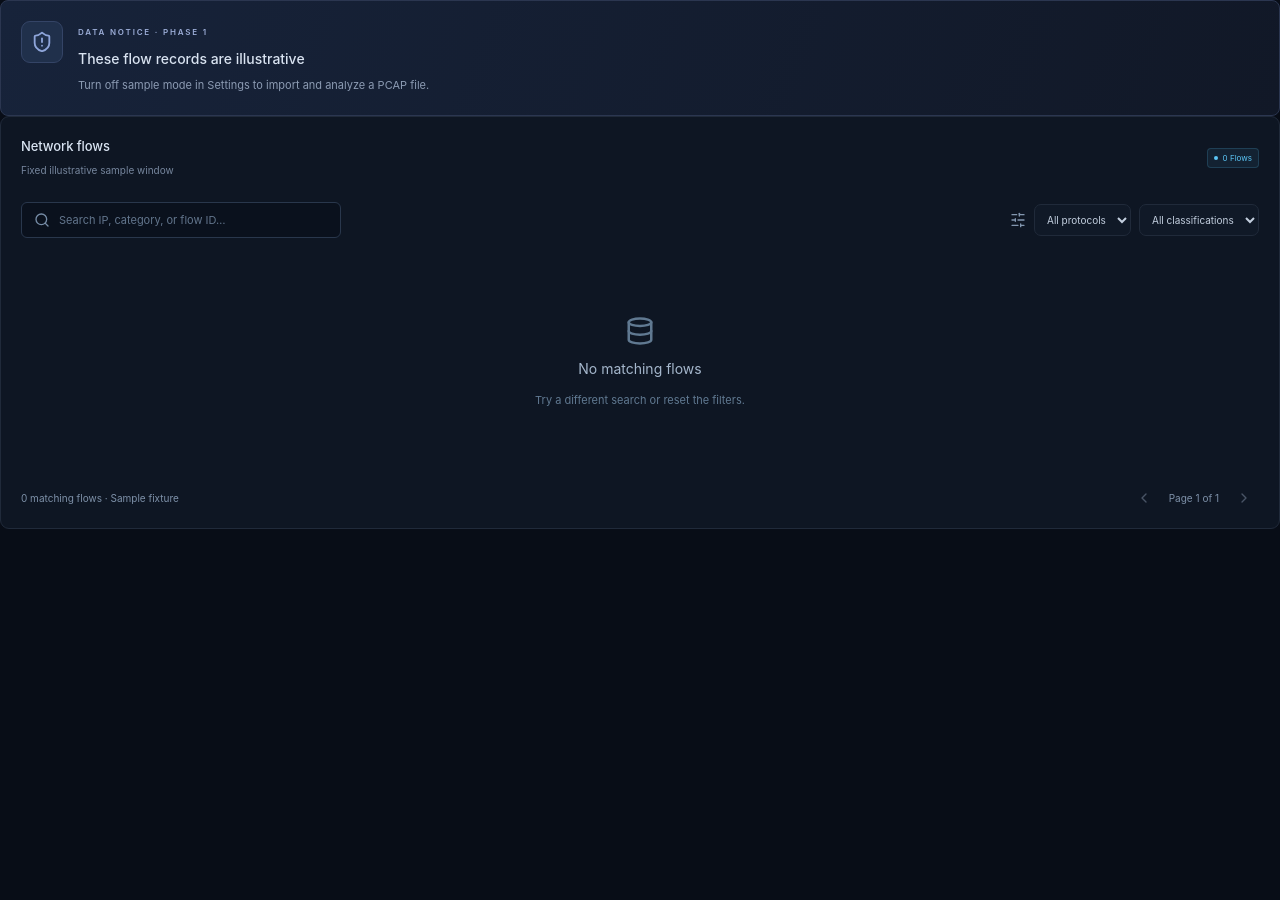
Test: Flow browsing › sends filters to the API and handles an empty search
Expected: the heading "No matching flows" is shown, [578, 358, 702, 379]
Step 1. Type "192.168.1.10" into the field named "Search flows" → (194, 220), box [59, 212, 328, 228]
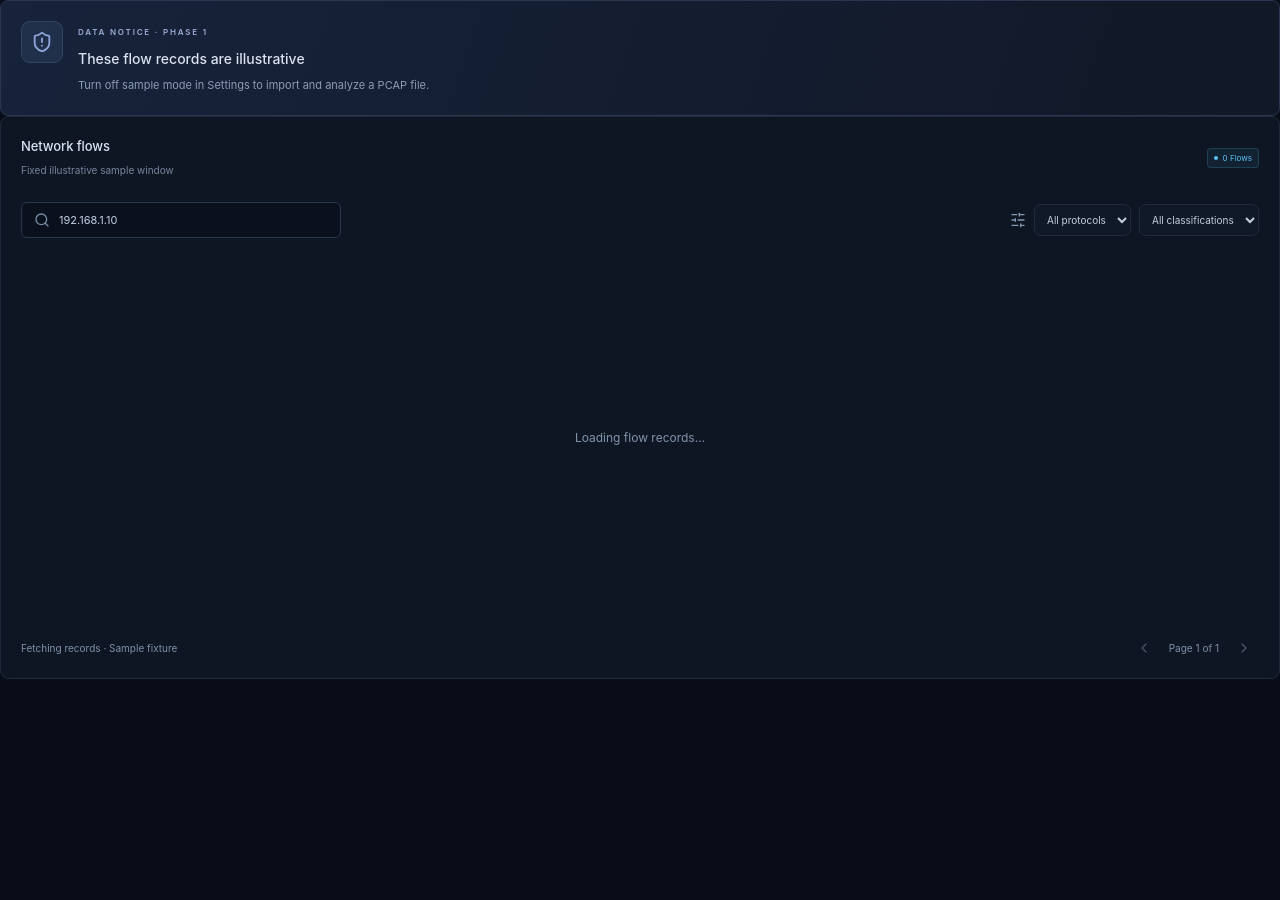
Step 2. Select "TCP" in the dropdown named "Protocol filter" → (1082, 220), box [1034, 204, 1131, 236]
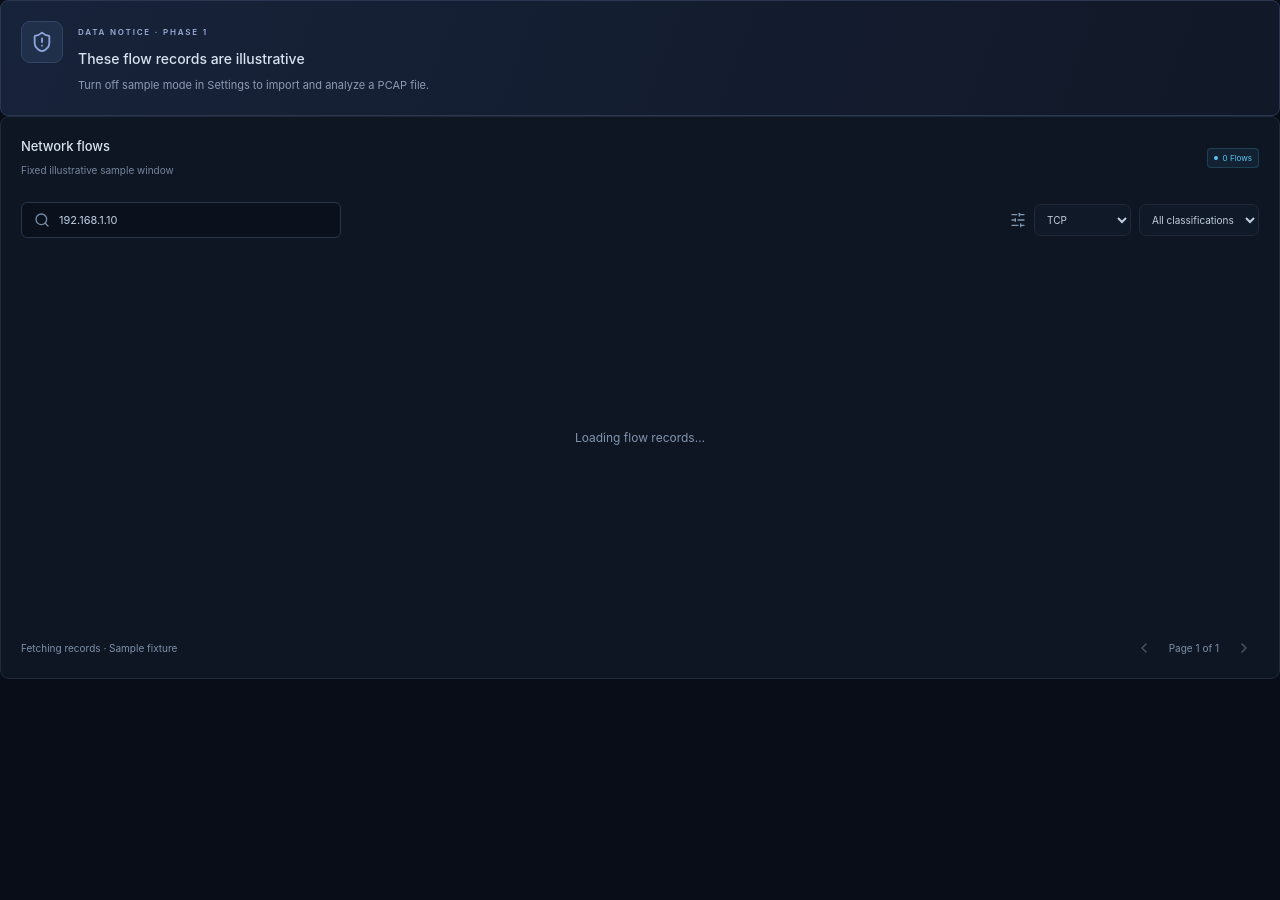
Step 3. Select "malicious" in the dropdown named "Classification filter" → (1199, 220), box [1139, 204, 1259, 236]
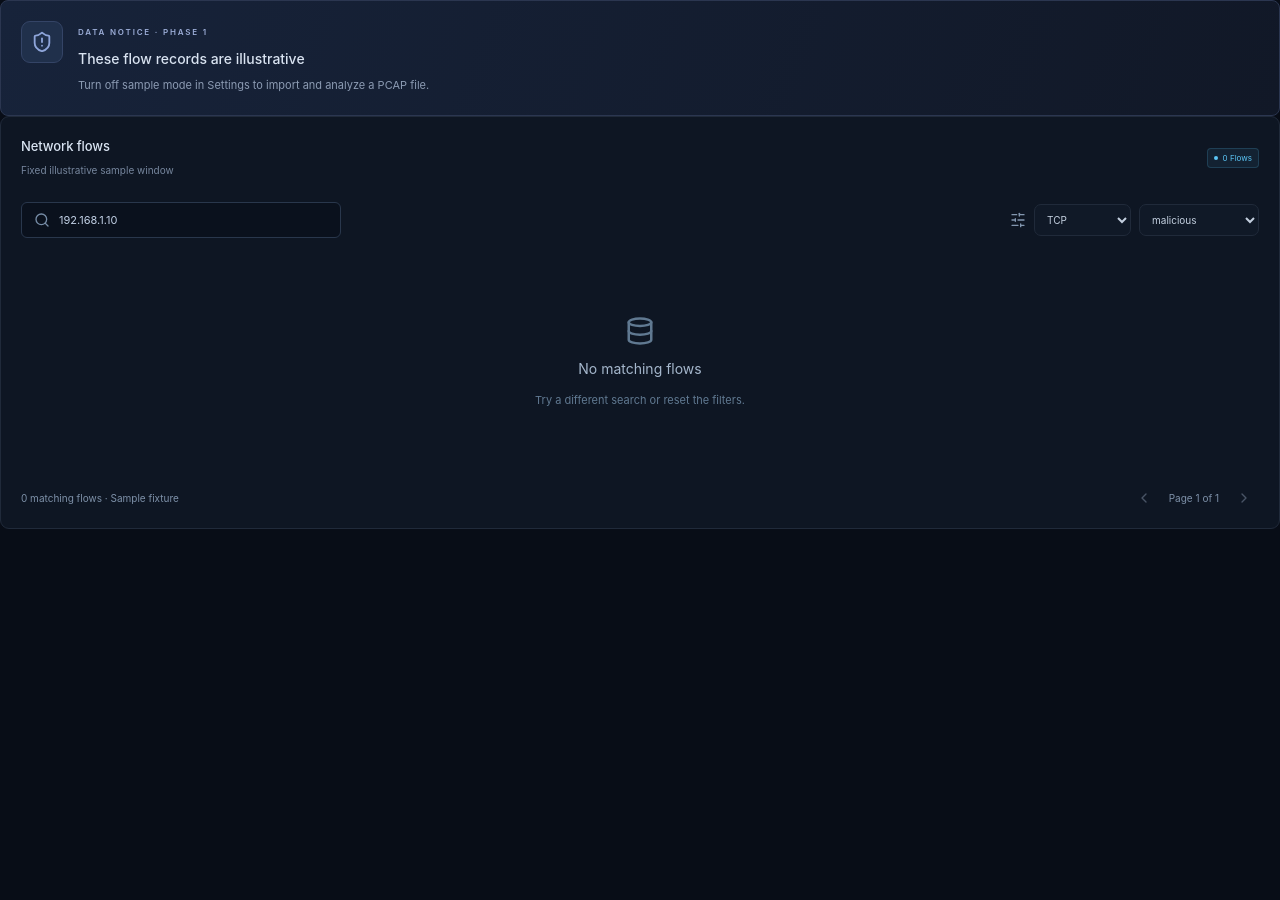
Now the heading "No matching flows" is shown, box [578, 358, 702, 379]
